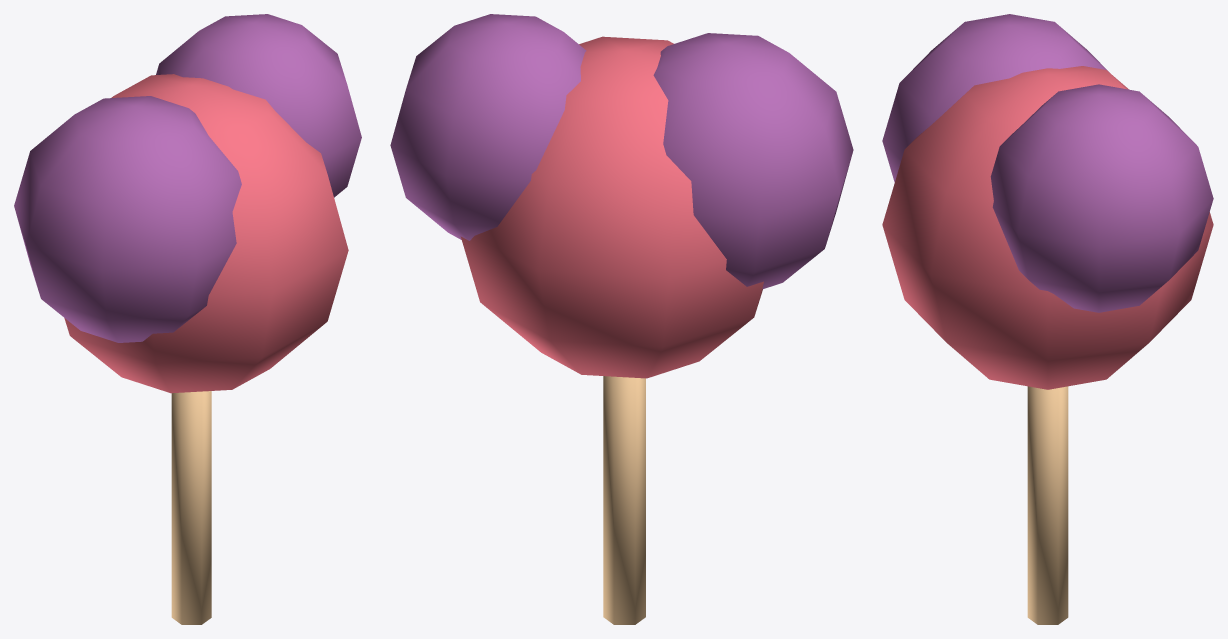
Rendered from food_cotton_candy.glb.
The picture shows the model from 3 angles, left to right: view 1: azimuth 30°, elevation 25°; view 2: azimuth 150°, elevation 25°; view 3: azimuth 270°, elevation 25°; orthographic projection. The views are drawn at different scales.
Visible parts, largest first — view 1: food_cotton_candy_c2, food_cotton_candy_c0, food_cotton_candy_c1, food_cotton_candy; view 2: food_cotton_candy_c0, food_cotton_candy_c2, food_cotton_candy_c1, food_cotton_candy; view 3: food_cotton_candy_c0, food_cotton_candy_c1, food_cotton_candy_c2, food_cotton_candy.
Part boxes in pixels (left/top/right/bottom): food_cotton_candy_c2: left=14, top=96, right=241, bottom=342; food_cotton_candy_c0: left=64, top=74, right=348, bottom=393; food_cotton_candy_c1: left=156, top=14, right=361, bottom=197; food_cotton_candy: left=171, top=391, right=211, bottom=624; food_cotton_candy_c0: left=460, top=36, right=763, bottom=378; food_cotton_candy_c2: left=653, top=33, right=853, bottom=289; food_cotton_candy_c1: left=390, top=14, right=586, bottom=240; food_cotton_candy: left=603, top=376, right=645, bottom=624; food_cotton_candy_c0: left=882, top=66, right=1213, bottom=389; food_cotton_candy_c1: left=990, top=84, right=1213, bottom=312; food_cotton_candy_c2: left=882, top=14, right=1109, bottom=182; food_cotton_candy: left=1027, top=386, right=1068, bottom=624.
Size of the model in its own units: 0.17 by 0.245 by 0.13.
